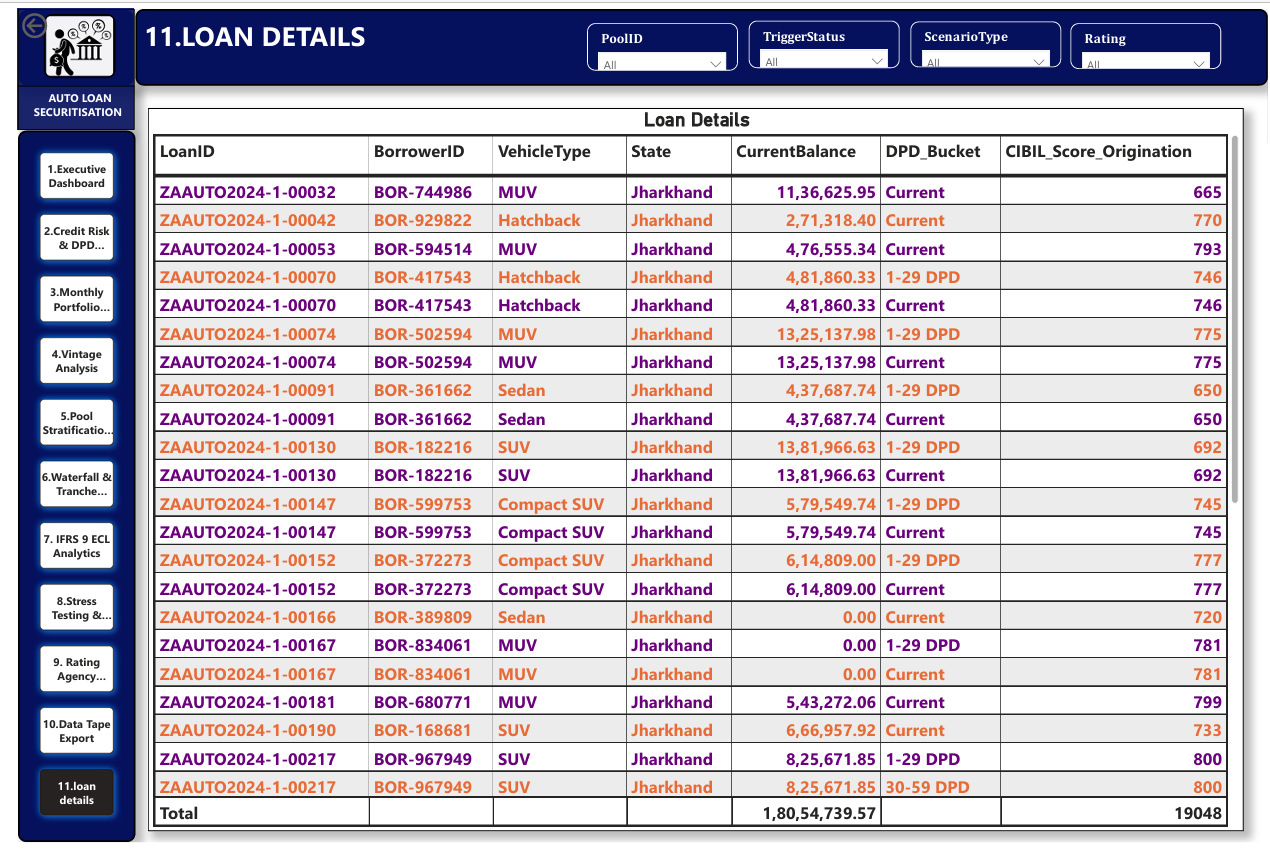

What the dashboard file says about the page in this screenshot:
{"tool":"powerbi","page":{"name":"11.loan details","canvas":[1500,1000],"ordinal":10},"visuals":[{"type":"shape","box":[0,0,139.9,92.9],"z":0},{"type":"textbox","box":[140.8,0,1358.9,92.2],"z":1000},{"type":"image","box":[31.4,6,85.7,77.2],"z":2000},{"type":"textbox","box":[0,91.7,139.9,53.1],"z":3000},{"type":"slicer","fields":{"Values":["Stress_Testing_Data.PoolID"]},"box":[682.8,16.9,181,56.7],"z":4000},{"type":"slicer","fields":{"Values":["Stress_Testing_Data.TriggerStatus"]},"box":[877.1,14.5,181,56.7],"z":5000},{"type":"slicer","fields":{"Values":["Stress_Testing_Data.ScenarioType"]},"box":[1070.7,15.1,181,55.3],"z":6000},{"type":"pageNavigator","box":[0,145.8,140.8,854.6],"z":7000},{"type":"slicer","fields":{"Values":["Stress_Testing_Data.Rating"]},"box":[1263.4,16.8,181,55.3],"z":8000},{"type":"tableEx","title":"Loan Details","fields":{"Values":["DPD History.LoanID","Loan Master.BorrowerID","Loan Master.VehicleType","Loan Master.State","Sum(Loan Master.CurrentBalance)","DPD History.DPD_Bucket","Sum(Loan Master.CIBIL_Score_Origination)"]},"box":[155.8,119,1315.4,868],"z":9000},{"type":"actionButton","box":[0,0,100,40],"z":10000}]}

Visuals, with their boxes on the page's 1500x1000 design canvas (x1, y1, x2, y2). These are canvas units, not pixel positions in the 1270x856 screenshot, which may show the page scaled, cropped or inside an application window:
shape: (0, 0, 140, 93)
textbox: (141, 0, 1500, 92)
image: (31, 6, 117, 83)
textbox: (0, 92, 140, 145)
slicer - Stress_Testing_Data.PoolID: (683, 17, 864, 74)
slicer - Stress_Testing_Data.TriggerStatus: (877, 14, 1058, 71)
slicer - Stress_Testing_Data.ScenarioType: (1071, 15, 1252, 70)
pageNavigator: (0, 146, 141, 1000)
slicer - Stress_Testing_Data.Rating: (1263, 17, 1444, 72)
"Loan Details" tableEx: (156, 119, 1471, 987)
actionButton: (0, 0, 100, 40)
